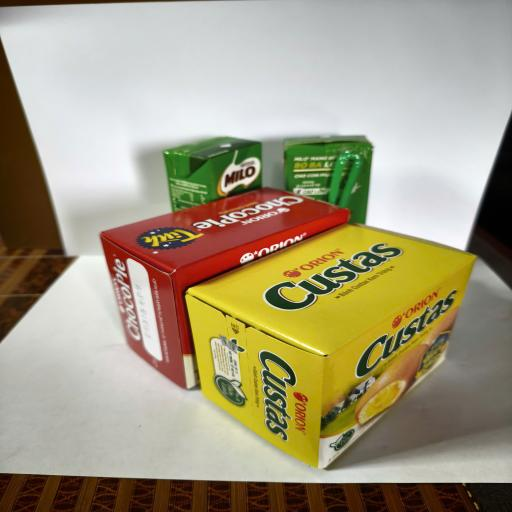chocopie: (100, 187, 351, 389)
custas: (184, 222, 477, 470)
milo: (283, 135, 374, 225), (163, 136, 262, 212)
